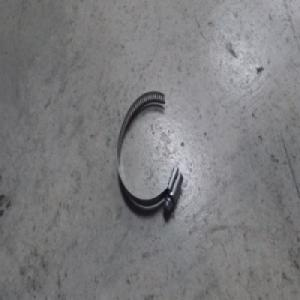AdjustableClamp: (117, 92, 184, 219)
